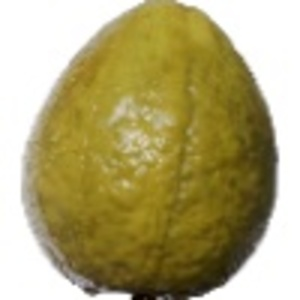goiaba: (17, 3, 281, 294)
